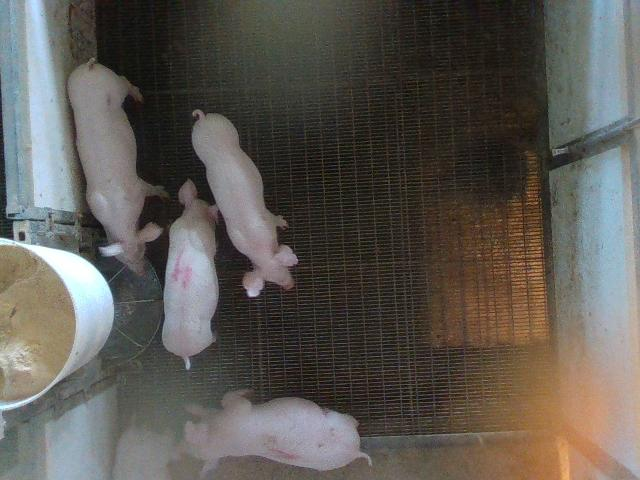pig-1: (180, 390, 371, 474)
pig-4: (162, 180, 219, 369)
